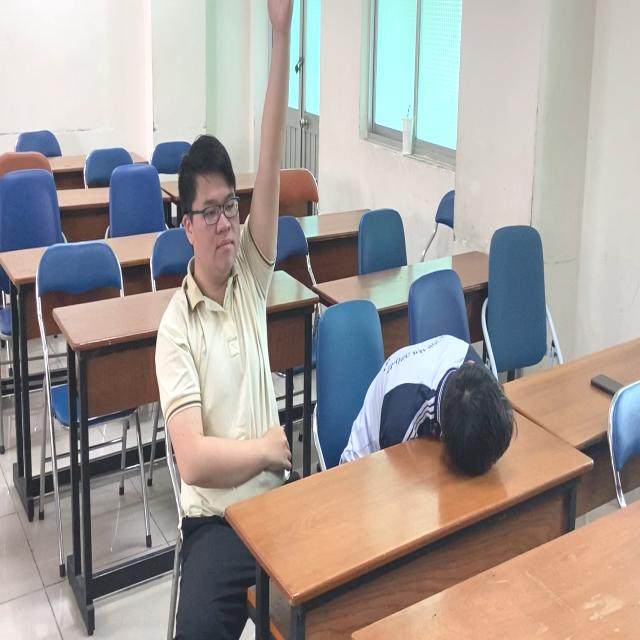raise_hand: (150, 1, 307, 566)
sleep: (339, 307, 530, 480)
